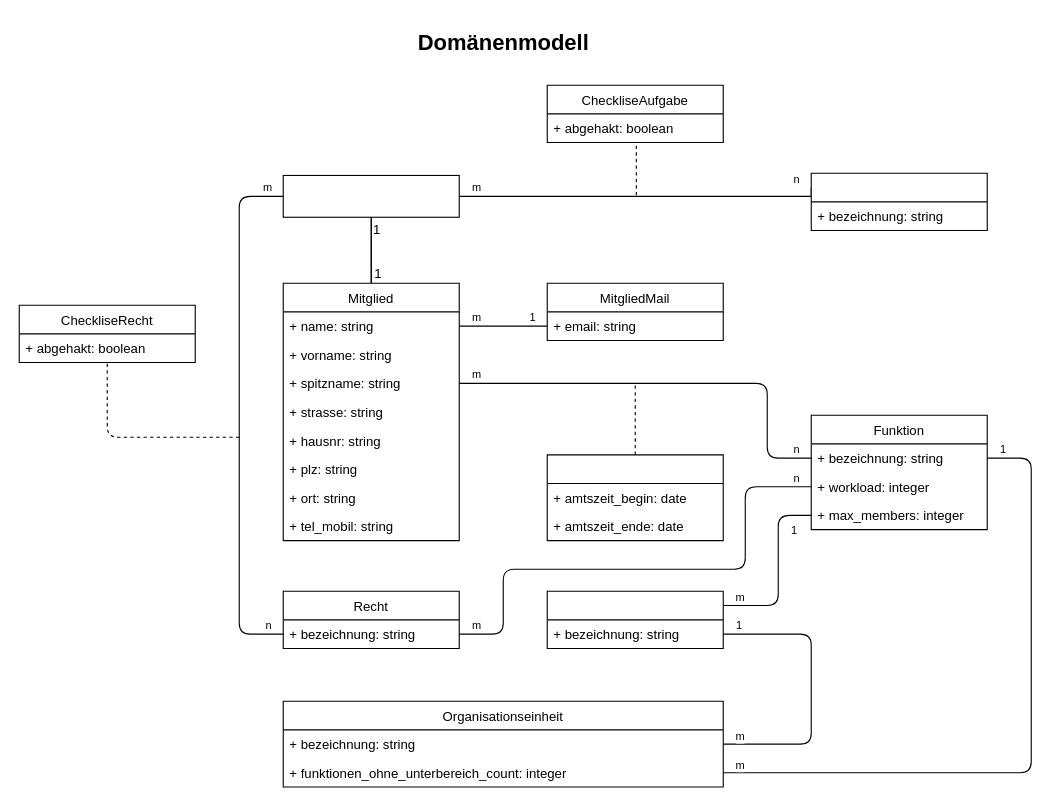
This 1052x809 diagram has some shape labels left out. The box of each missing label's shape, as (x1, y1, x2, y2) in pixels:
Aufgabe: (810, 172, 987, 230)
Checkliste: (282, 174, 459, 217)
MitgliedAmt: (546, 454, 723, 541)
Unterbereich: (546, 590, 723, 648)
